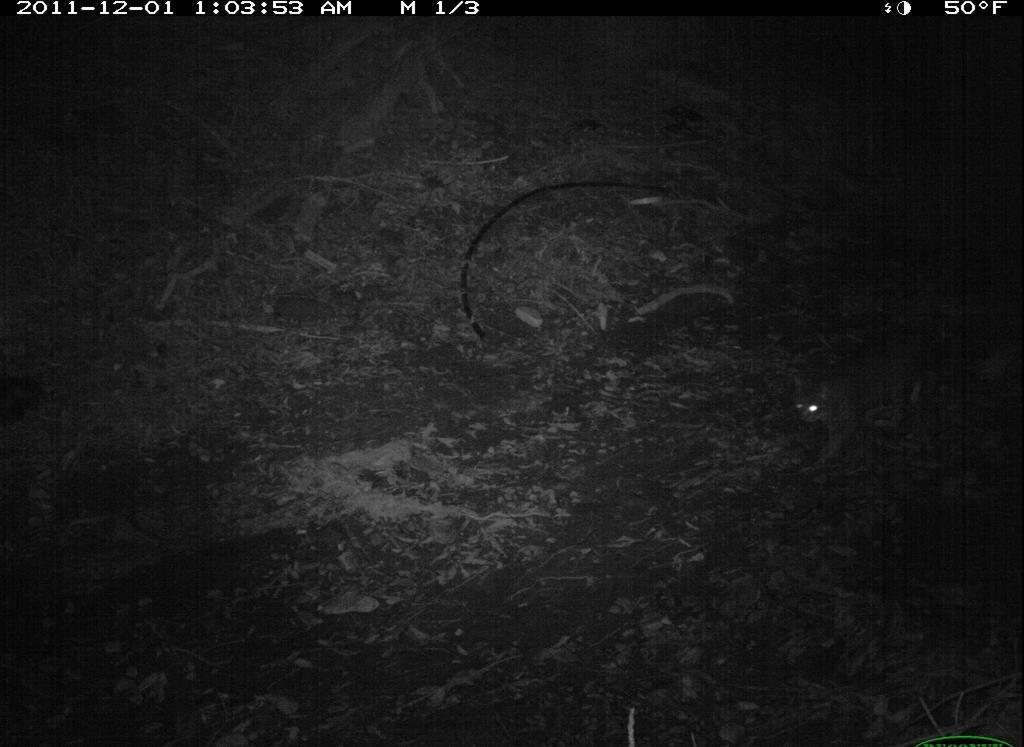cat: (786, 318, 971, 481)
